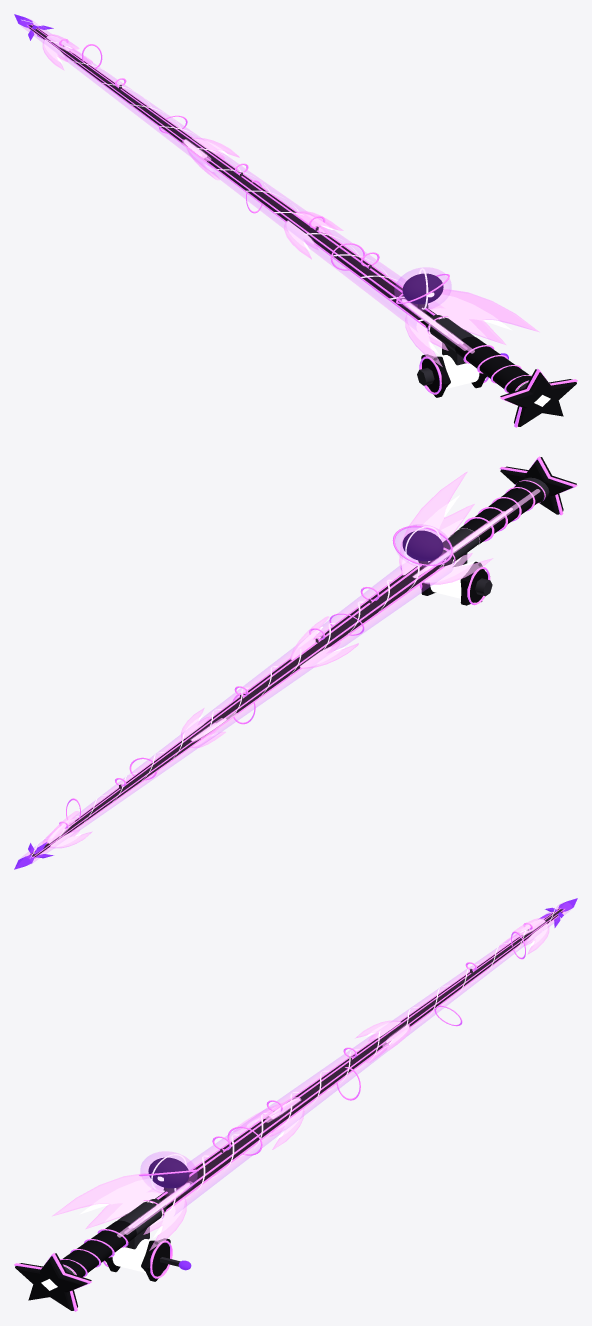
Rendered from SKIN_VOID.glb.
3 renders of one model, top to bottom at view 1: azimuth 30°, elevation 25°; view 2: azimuth 150°, elevation 25°; view 3: azimuth 330°, elevation 25°, orthographic.
Parts seen in each view (by area): view 1: shaft_aura, blank, void_wing_flame (×2), edge_glow (×3), grip, pommel_star, orb_aura, void_wing_core, void_orb, void_wing_low_flame, energy_ribbon, reel_spool_line (+3 smaller); view 2: shaft_aura, blank, edge_glow (×4), void_wing_flame (×2), orb_aura, grip, pommel_star, shaft_wisp_flame (×2), void_orb, void_wing_low_flame, void_wing_core, energy_ribbon (+3 smaller); view 3: shaft_aura, blank, void_wing_flame (×2), edge_glow (×4), grip, pommel_star, orb_aura, void_wing_core, void_orb, energy_ribbon, void_wing_low_flame, reel_side (+2 smaller).
Part boxes in pixels (left/top/right/bottom): shaft_aura: left=20, top=18, right=442, bottom=330; blank: left=28, top=24, right=438, bottom=326; void_wing_flame (×2): left=399, top=289, right=539, bottom=353; edge_glow (×3): left=27, top=24, right=435, bottom=327; grip: left=455, top=336, right=531, bottom=392; pommel_star: left=500, top=369, right=576, bottom=426; orb_aura: left=394, top=267, right=451, bottom=310; void_wing_core: left=428, top=294, right=512, bottom=337; void_orb: left=402, top=273, right=443, bottom=304; void_wing_low_flame: left=405, top=313, right=448, bottom=366; energy_ribbon: left=21, top=19, right=431, bottom=321; reel_spool_line: left=439, top=355, right=479, bottom=388; shaft_aura: left=21, top=560, right=452, bottom=864; blank: left=30, top=557, right=443, bottom=856; edge_glow (×4): left=28, top=560, right=444, bottom=858; void_wing_flame (×2): left=399, top=472, right=540, bottom=578; orb_aura: left=395, top=524, right=451, bottom=567; grip: left=459, top=482, right=543, bottom=544; pommel_star: left=500, top=457, right=576, bottom=514; shaft_wisp_flame (×2): left=290, top=616, right=358, bottom=668; void_orb: left=402, top=530, right=443, bottom=561; void_wing_low_flame: left=423, top=553, right=492, bottom=584; void_wing_core: left=401, top=495, right=463, bottom=575; energy_ribbon: left=19, top=559, right=445, bottom=859; shaft_aura: left=149, top=902, right=571, bottom=1214; blank: left=153, top=908, right=563, bottom=1210; void_wing_flame (×2): left=52, top=1173, right=192, bottom=1237; edge_glow (×4): left=156, top=908, right=564, bottom=1211; grip: left=60, top=1220, right=136, bottom=1276; pommel_star: left=15, top=1253, right=91, bottom=1310; orb_aura: left=140, top=1151, right=197, bottom=1194; void_wing_core: left=79, top=1178, right=163, bottom=1221; void_orb: left=148, top=1157, right=189, bottom=1188; energy_ribbon: left=169, top=901, right=573, bottom=1210; void_wing_low_flame: left=143, top=1197, right=186, bottom=1250; reel_side: left=141, top=1238, right=170, bottom=1281.
Size of the model in its own units: 0.7 by 0.7 by 7.
